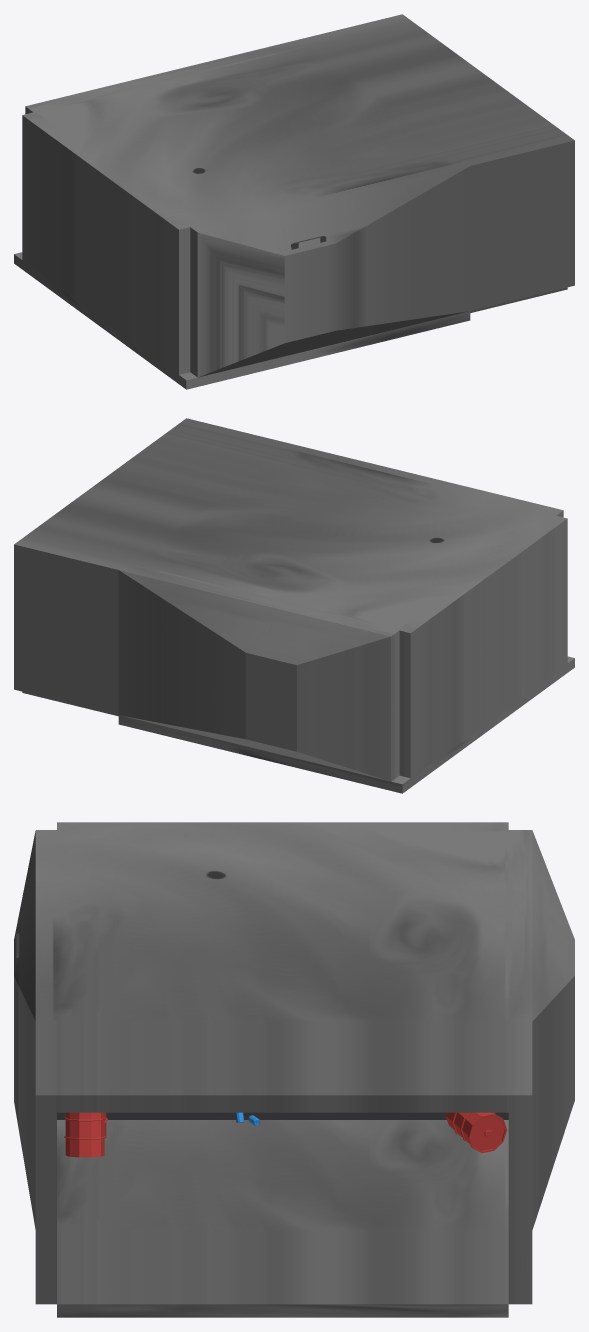
File: escenario fallo.glb
The picture shows the model from 3 angles, top to bottom: view 1: azimuth 30°, elevation 25°; view 2: azimuth 150°, elevation 25°; view 3: azimuth 270°, elevation 25°; orthographic projection. The views are drawn at different scales.
Parts seen in each view (by area): view 1: escenario, escenario.001; view 2: escenario, escenario.001; view 3: escenario, escenario.001, Cube, Cylinder.011, Cylinder.010.
Boxes of the visible parts, left/top/right/bottom form: escenario: left=14, top=14, right=574, bottom=389; escenario.001: left=34, top=20, right=566, bottom=226; escenario: left=14, top=418, right=574, bottom=793; escenario.001: left=22, top=423, right=555, bottom=630; escenario: left=14, top=822, right=574, bottom=1317; escenario.001: left=57, top=830, right=508, bottom=1112; Cube: left=57, top=1112, right=508, bottom=1119; Cylinder.011: left=64, top=1112, right=106, bottom=1157; Cylinder.010: left=445, top=1112, right=506, bottom=1153.
Bounding box in the file's own units: 51.51 × 19.57 × 44.72.
10 materials, 1 textured.
